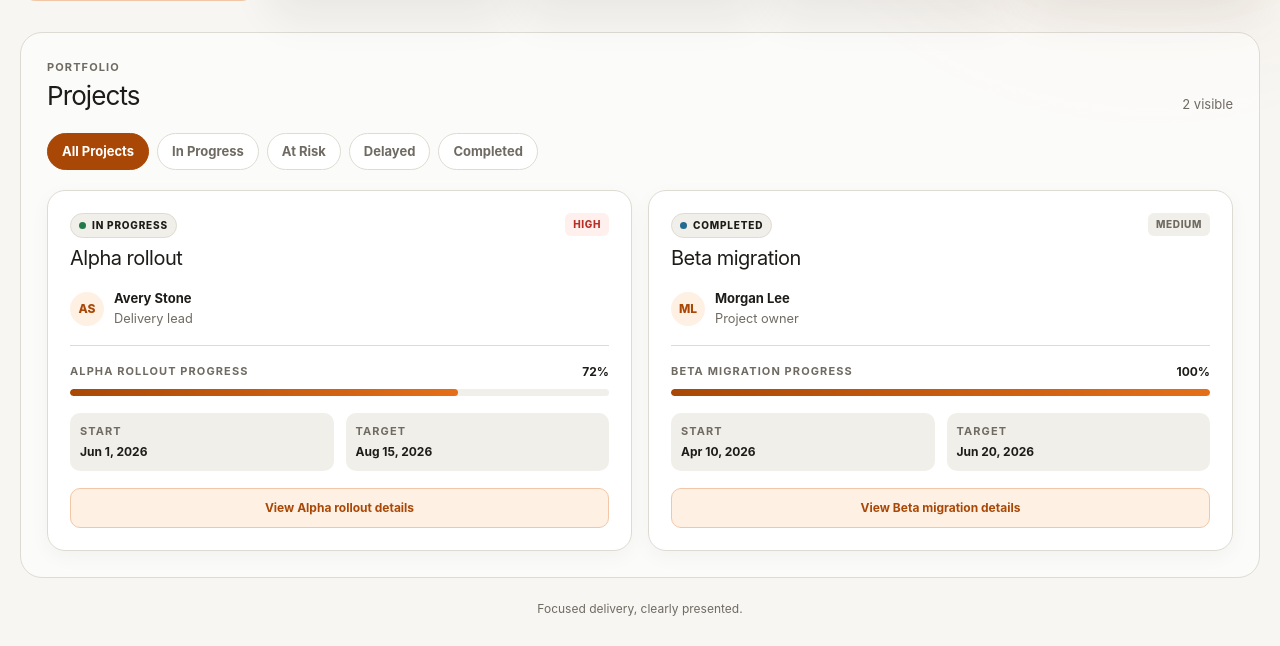
Test: DashboardShell › opens an accessible project dialog and closes it with x
The width and height of the screenshot is (1280, 646).
(page scrolled)
What coordinates should you click on to do the following:
click the button "View Alpha rollout details"
I would click on:
 (340, 508)
Its box is x1=70 y1=488 x2=609 y2=528.
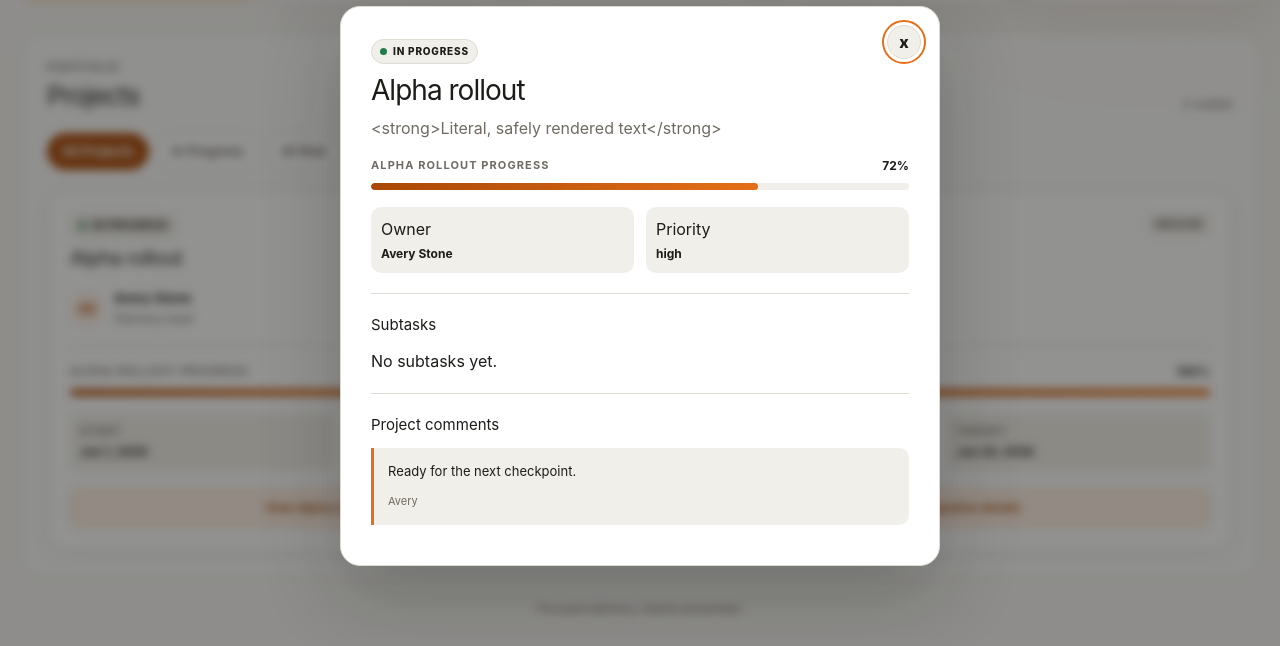
Now the dialog "Alpha rollout" is shown, box x1=340 y1=6 x2=940 y2=566
Now the text "<strong>Literal, safely rendered text</strong>" is shown, box x1=371 y1=118 x2=722 y2=138
Now the button named "Close project details" reads "x"
What coordinates should you click on to do the following:
click the button named "Close project details"
I would click on:
 (904, 42)
Its box is x1=887 y1=25 x2=921 y2=59.
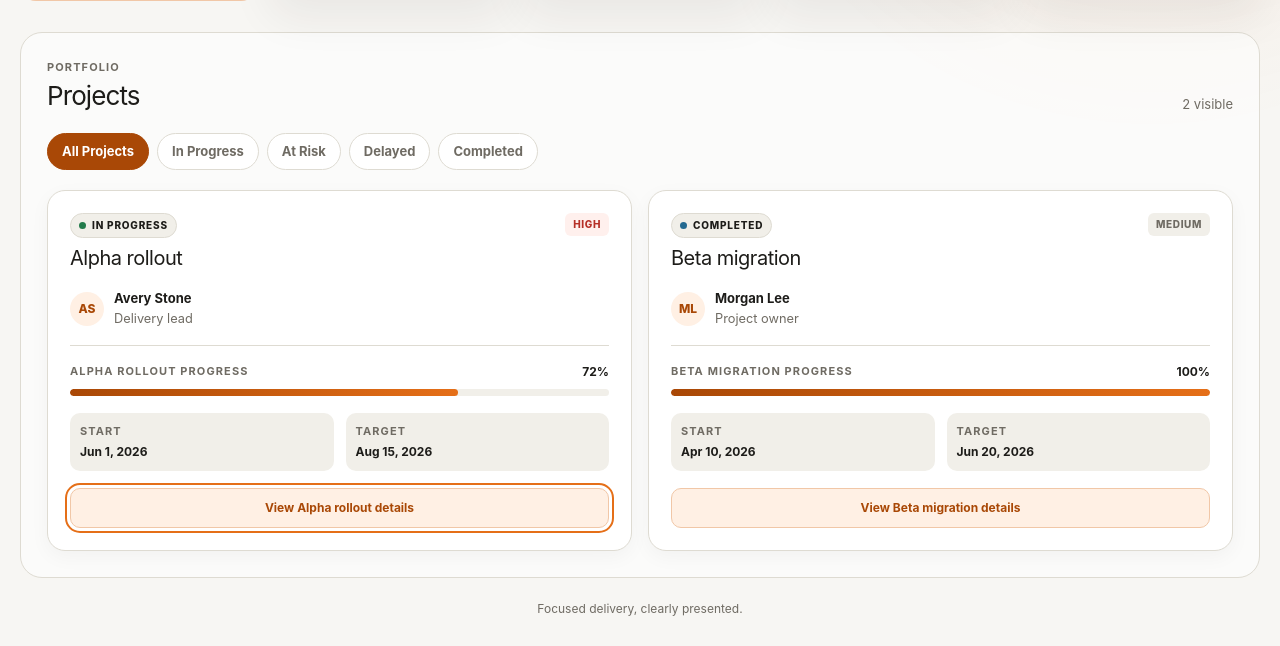
Now the dialog is gone
